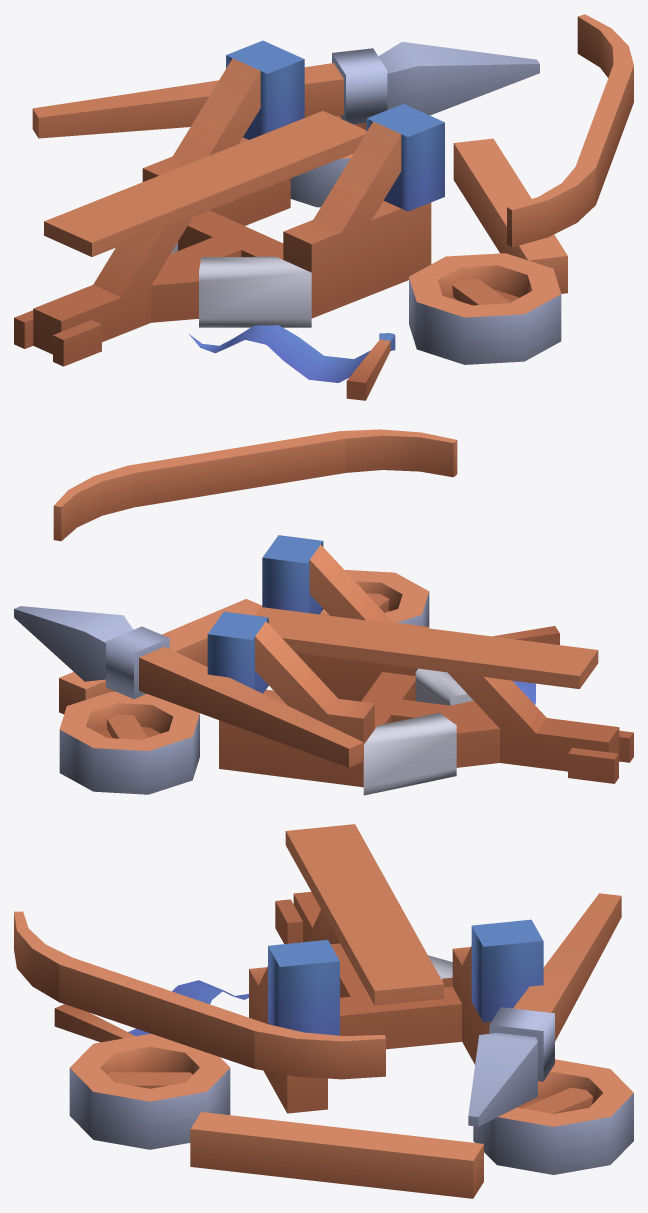
The model's file is siege-ballista-demolished.glb.
3 renders of one model, top to bottom at view 1: azimuth 30°, elevation 25°; view 2: azimuth 150°, elevation 25°; view 3: azimuth 270°, elevation 25°, orthographic. The views are drawn at different scales.
Visible parts, largest first — view 1: siege-ballista-demolished; view 2: siege-ballista-demolished; view 3: siege-ballista-demolished.
Part boxes in pixels (x1,y1,x2,y2): siege-ballista-demolished: (14,14,633,400); siege-ballista-demolished: (14,429,633,795); siege-ballista-demolished: (14,824,633,1198).
Bounding box in the file's own units: 1.75 × 0.5098 × 1.55.
1 material, 1 textured.
